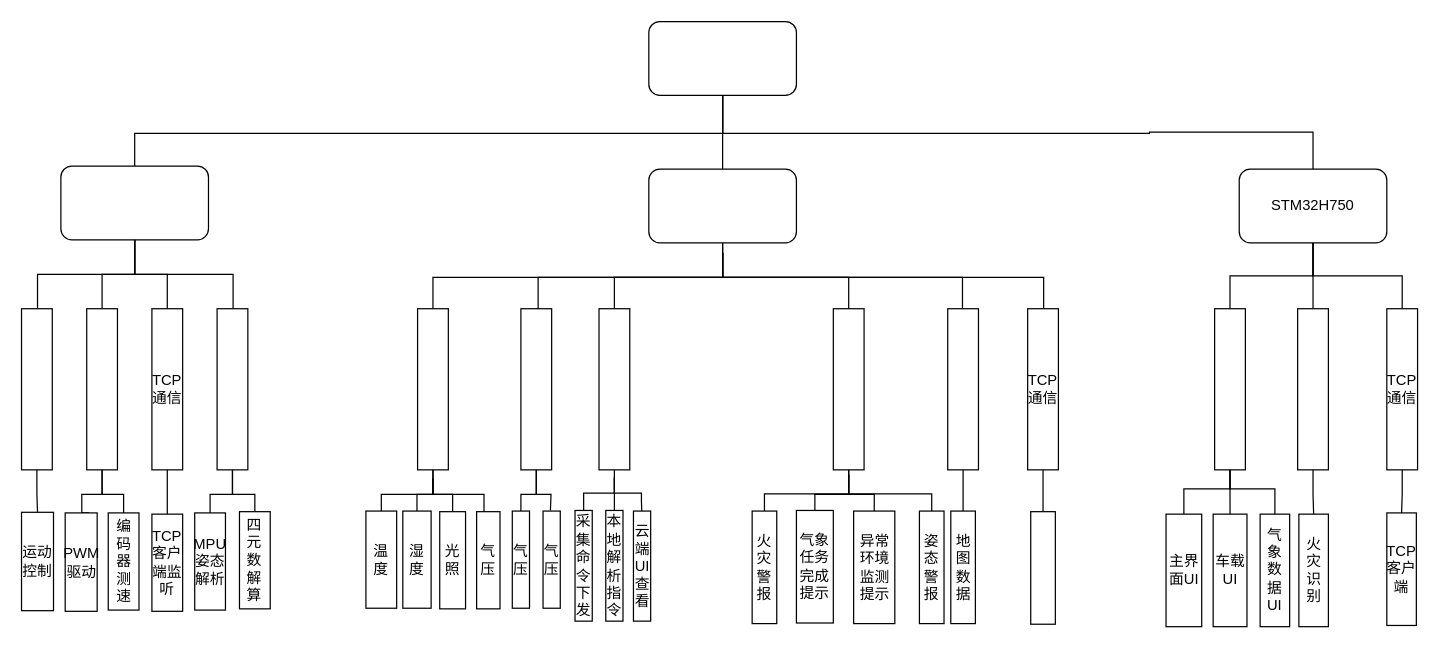
This 1439x648 diagram has some shape labels left out. The centre of each missing label's shape, as x and y in pixels:
"AI识别" goes at (1312,389).
"GPS经纬度采集" goes at (962,389).
"STM32F411" goes at (722,205).
"STM32G474" goes at (134,202).
"TCP服务端" goes at (1042,567).
"UI显示" goes at (1229,389).
"云平台通信" goes at (614,389).
"城市巡防车" goes at (722,57).
"姿态检测" goes at (232,389).
"底盘控制" goes at (101,389).
"异常环境数据采集" goes at (536,389).
"气象数据采集" goes at (432,389).
"蓝牙通信" goes at (36,389).
"语音交互" goes at (848,389).
